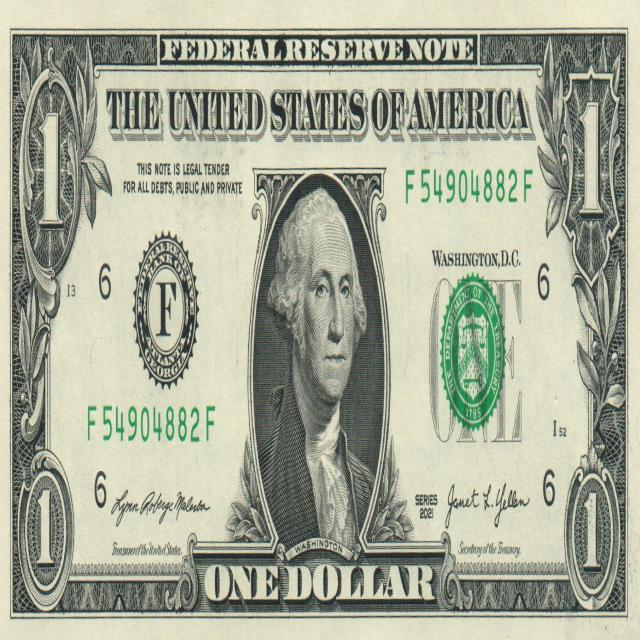SerialNumber: (406, 169, 532, 204), (102, 405, 214, 442)
